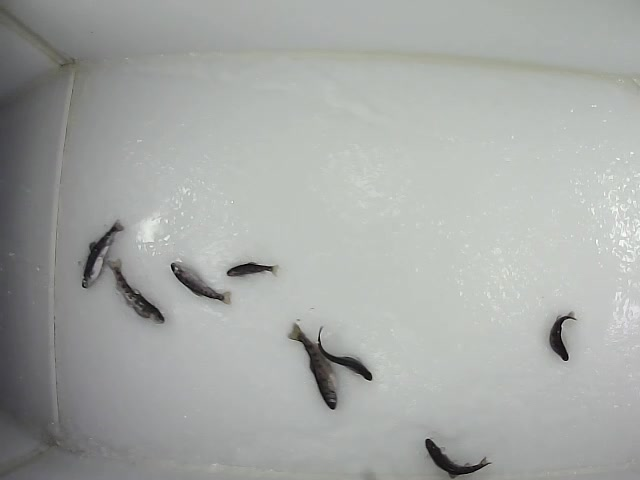fish: (285, 320, 336, 410), (107, 258, 164, 326), (80, 216, 127, 290), (168, 261, 234, 309), (317, 326, 373, 380), (424, 438, 492, 479), (548, 311, 577, 361), (225, 261, 282, 281)
